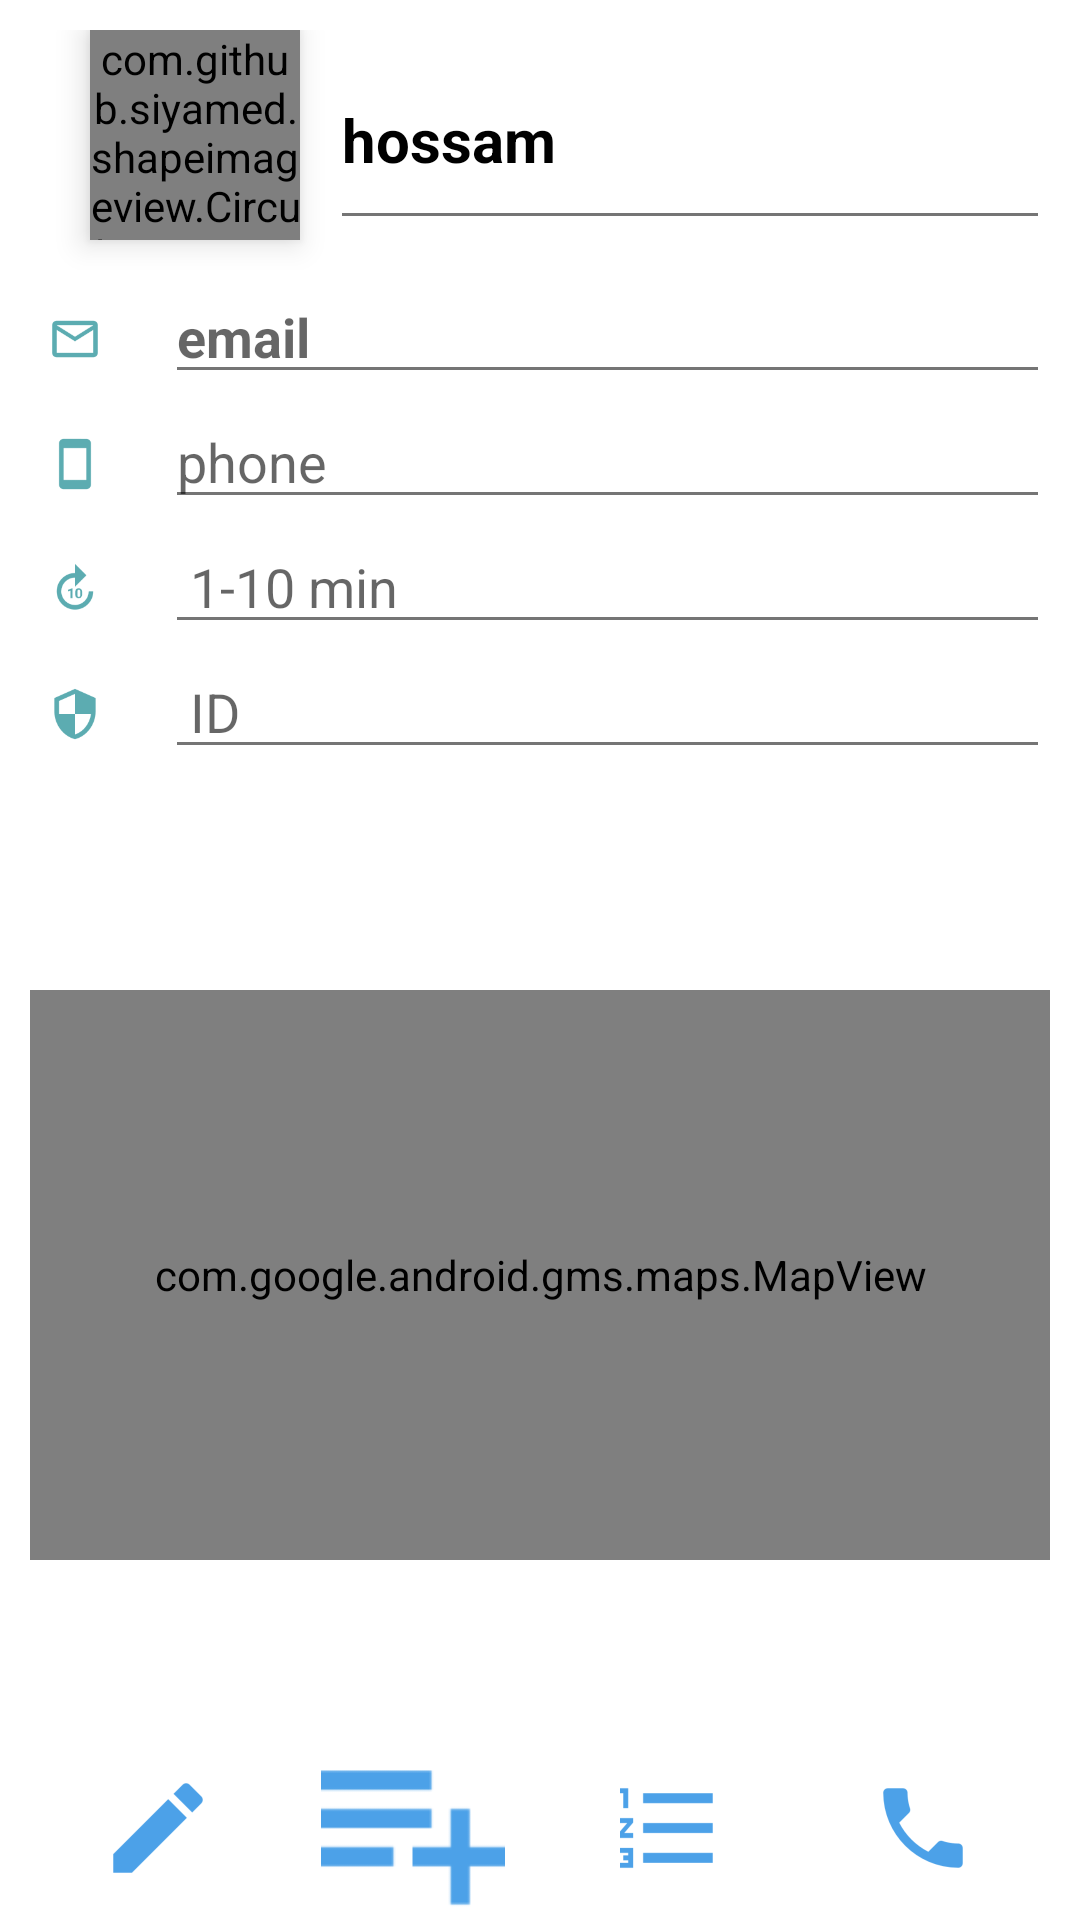

Point at icon controls on the screen. Image size 1080×1920, points as (x,y).
addtask: (413,1837)
call: (923,1828)
edit: (158,1828)
listoftask: (666,1828)
timetrack: (74,587)
